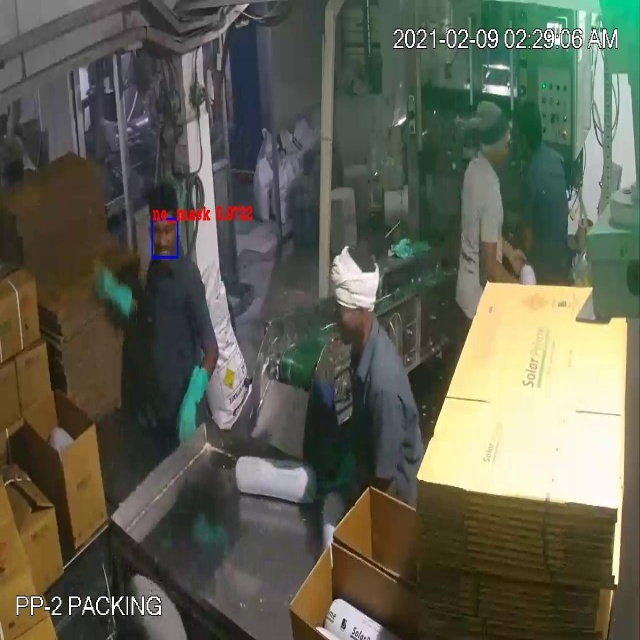Guantes: (165, 349, 213, 444), (86, 257, 137, 322)
Sin_guantes: (476, 231, 533, 301)
